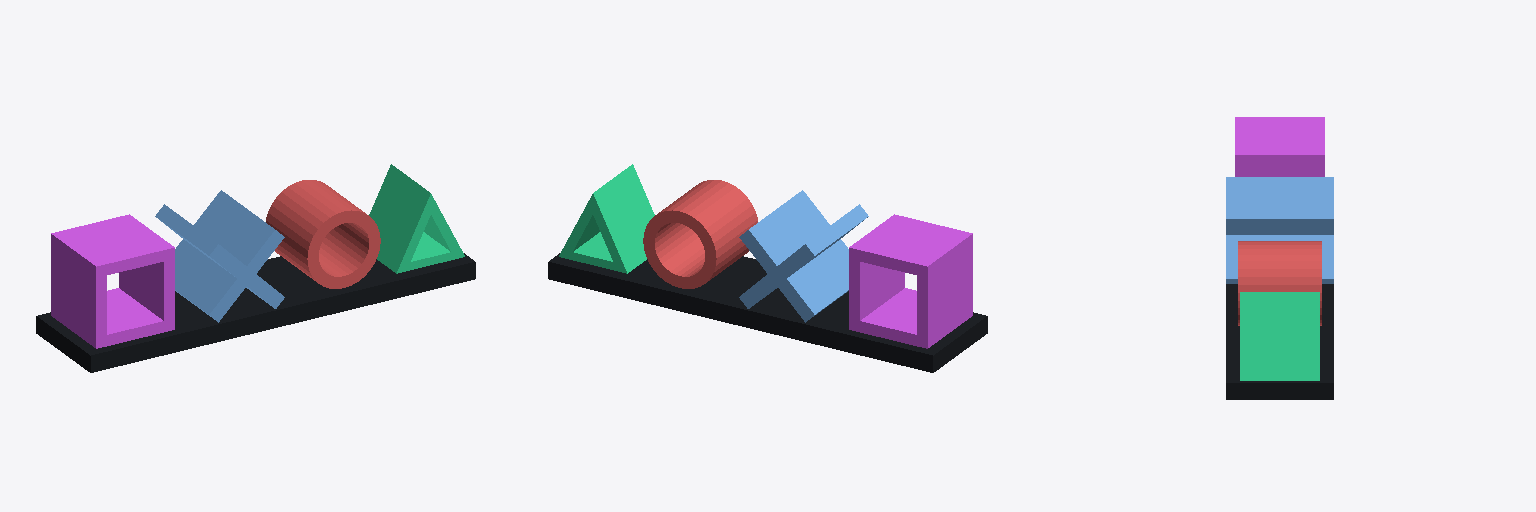
The picture shows the model from 3 angles: view 1: azimuth 30°, elevation 25°; view 2: azimuth 150°, elevation 25°; view 3: azimuth 270°, elevation 25°; orthographic projection.
Visible parts, largest first — view 1: Cube.037; view 2: Cube.037; view 3: Cube.037.
Boxes of the visible parts, x1,y1,x2,y2 form: Cube.037: [36, 164, 475, 372]; Cube.037: [548, 164, 987, 372]; Cube.037: [1226, 117, 1333, 399].
Bounding box in the file's own units: 0.5218 × 0.1306 × 0.1275.
1 materials, 1 textured.